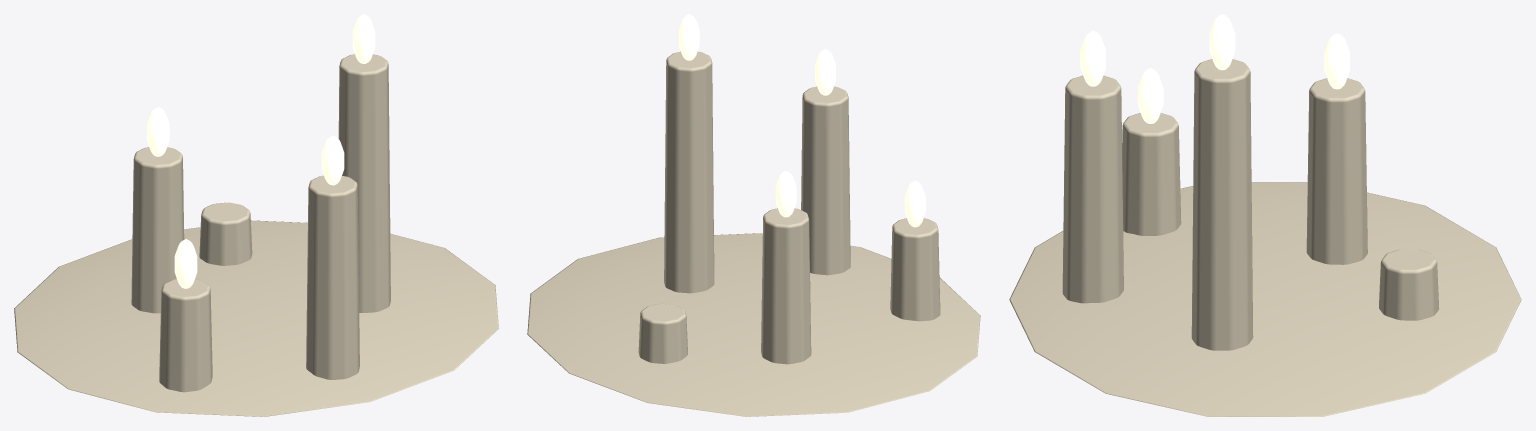
The model's file is SM_PRP_Velas.fbx.
The picture shows the model from 3 angles, left to right: view 1: azimuth 30°, elevation 25°; view 2: azimuth 150°, elevation 25°; view 3: azimuth 270°, elevation 25°; orthographic projection. The views are drawn at different scales.
Parts seen in each view (by area): view 1: SM_PRP_Velas; view 2: SM_PRP_Velas; view 3: SM_PRP_Velas.
Boxes of the visible parts, x1,y1,x2,y2 form: SM_PRP_Velas: [14, 14, 498, 416]; SM_PRP_Velas: [527, 14, 980, 416]; SM_PRP_Velas: [1009, 14, 1521, 416].
Size of the model in its own units: 0.3869 by 0.267 by 0.3571.
